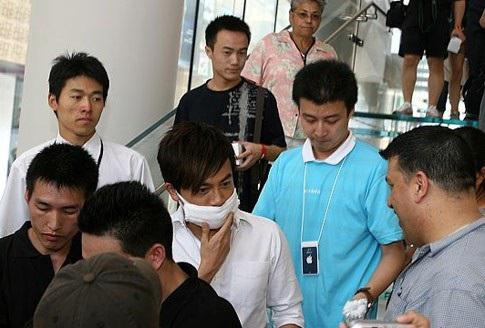NONE: (384, 174, 436, 242), (29, 195, 82, 252), (302, 103, 345, 152), (61, 89, 105, 135), (214, 40, 248, 78), (295, 6, 323, 38)
WRONG: (182, 168, 238, 224)
